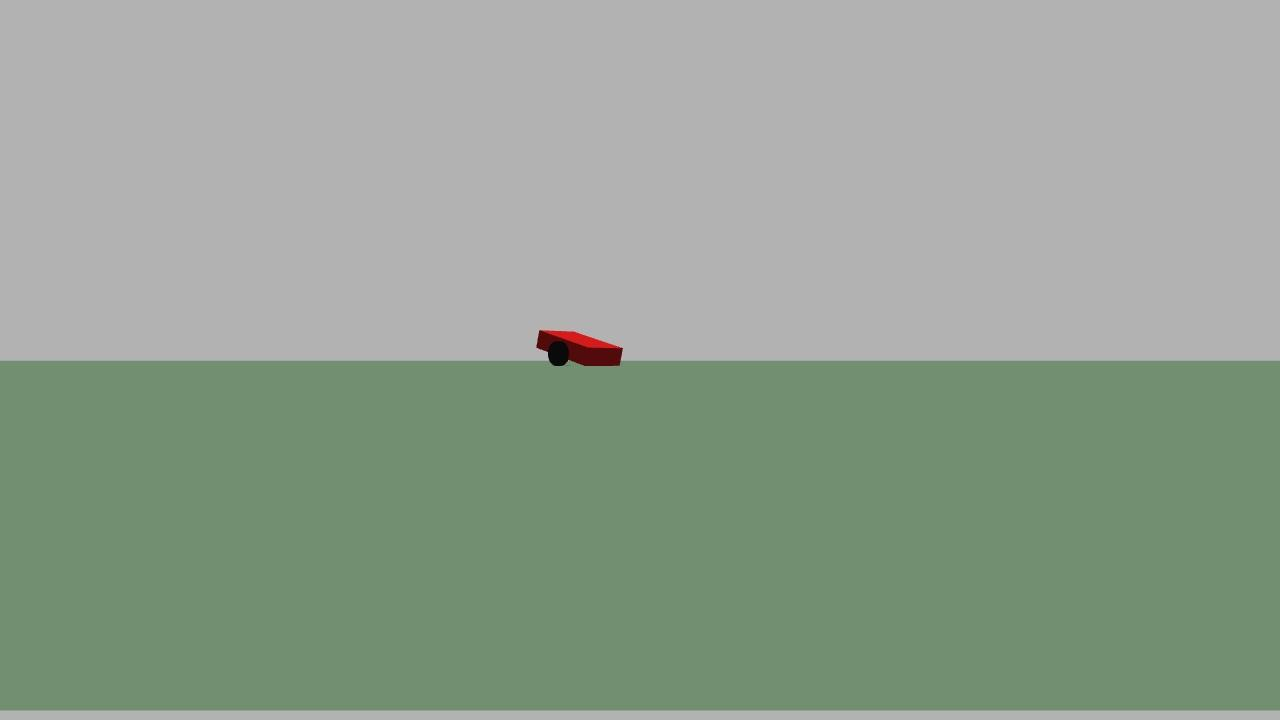ground_vehicle: (531, 315, 628, 375)
